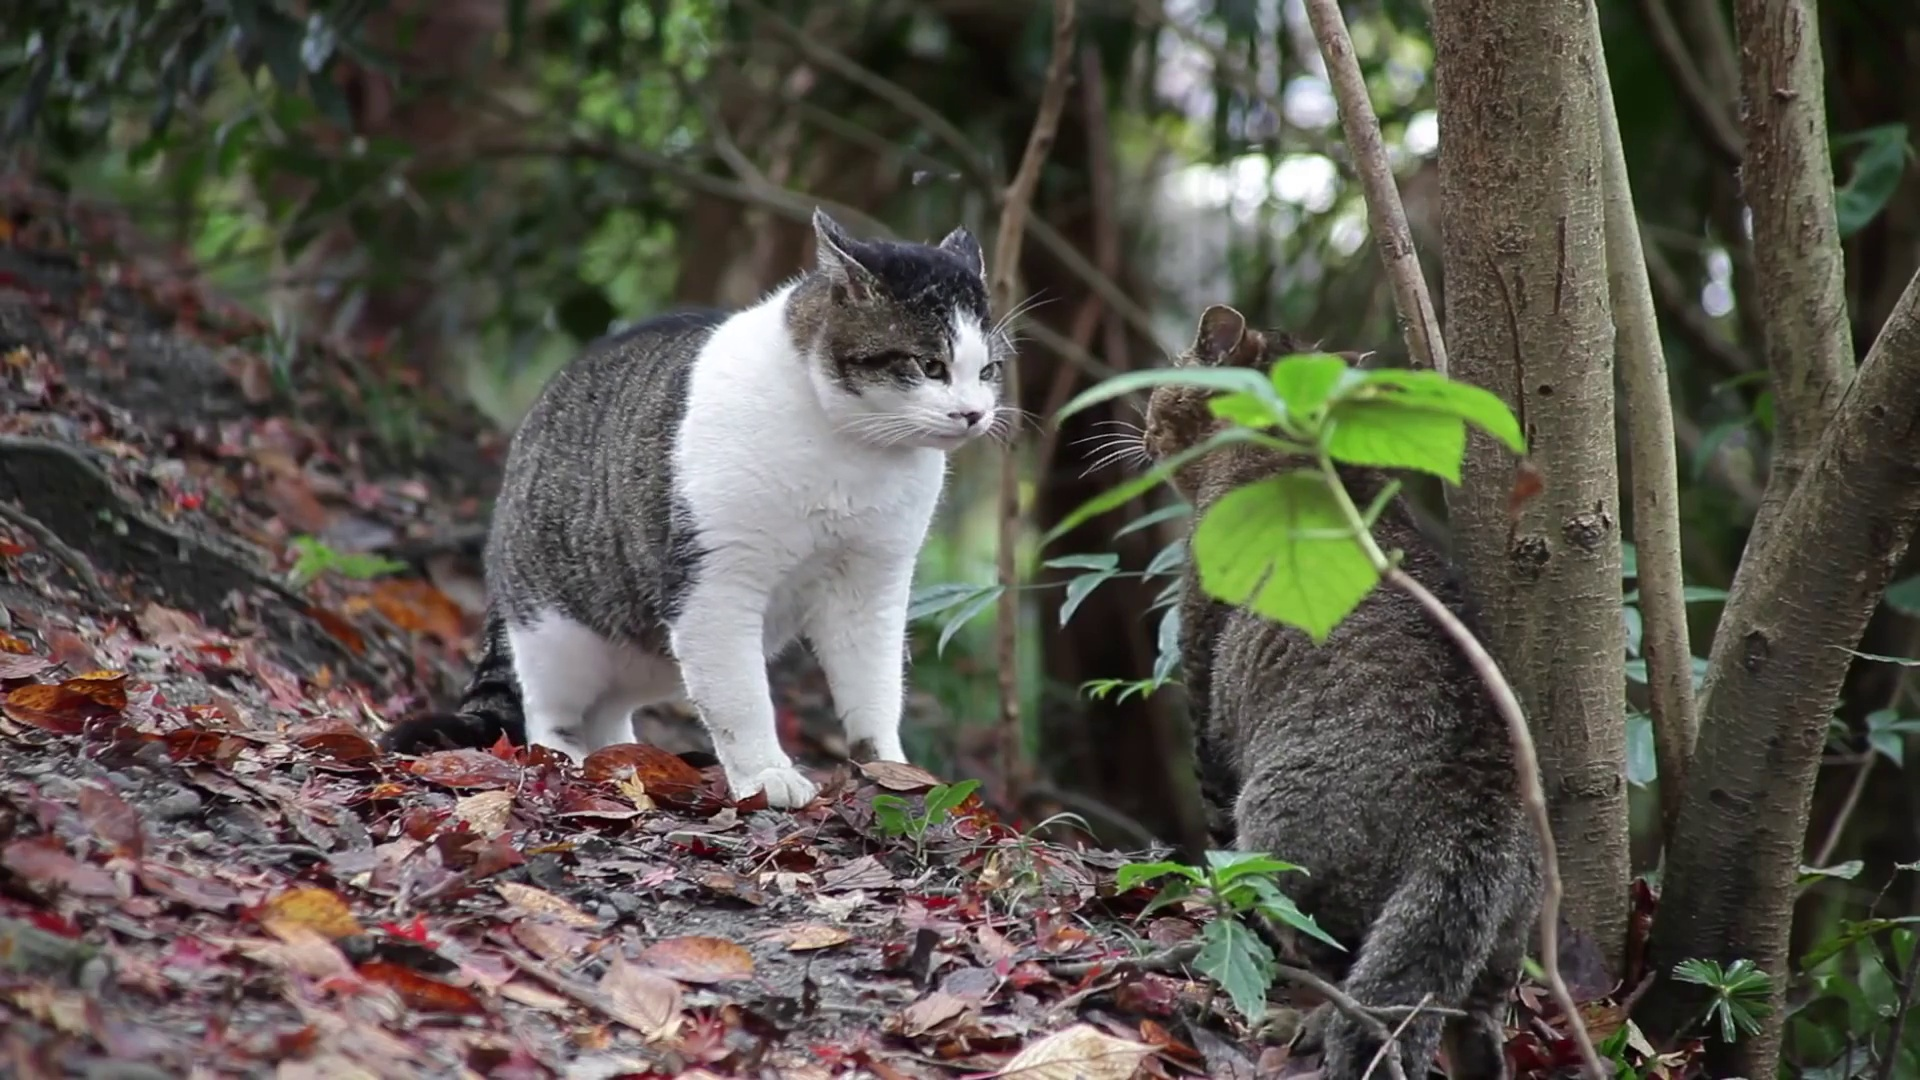black-white: (372, 204, 1005, 816)
pure black: (1141, 303, 1540, 1080)
